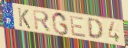4: (108, 21, 121, 44)
D: (86, 18, 105, 41)
E: (69, 15, 87, 39)
G: (51, 12, 70, 37)
K: (17, 7, 32, 30)
R: (32, 9, 52, 34)
